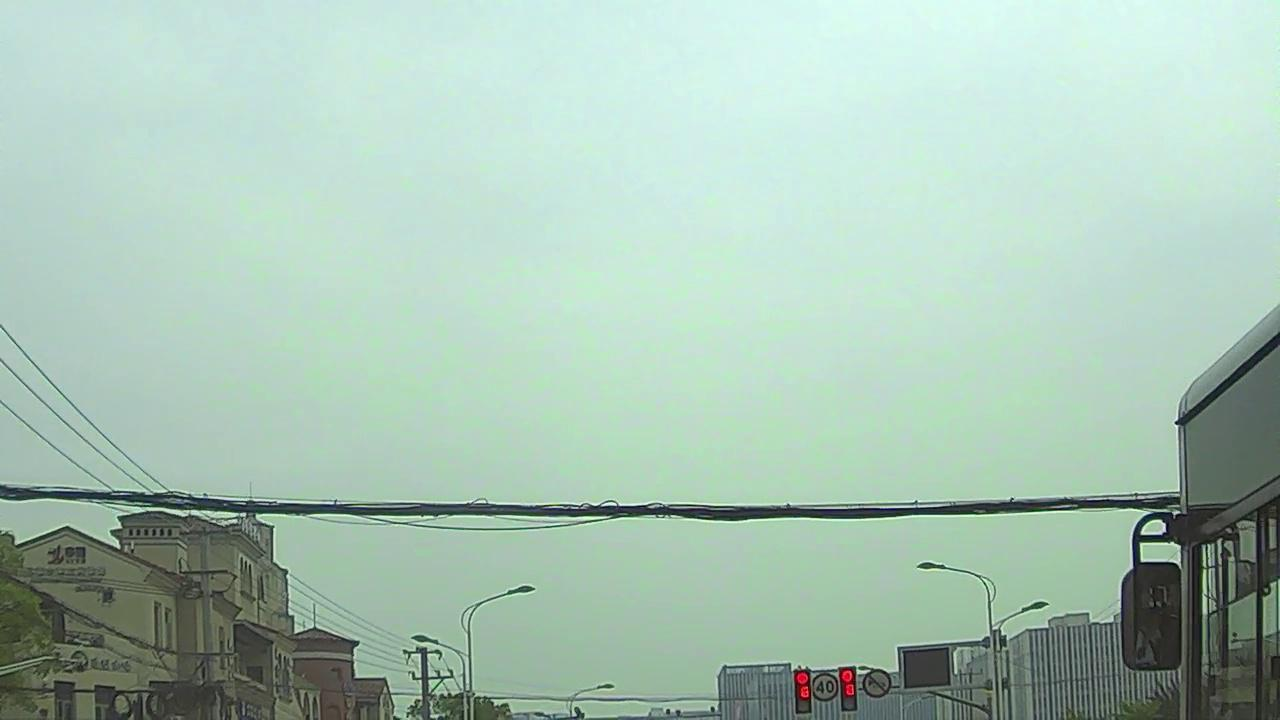traffic_light: (839, 666, 857, 711), (796, 673, 811, 711)
